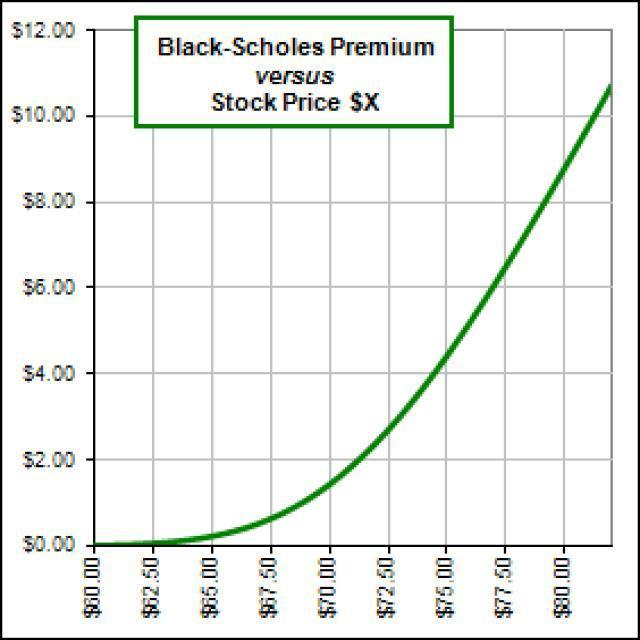axis: (79, 18, 103, 555), (80, 537, 616, 555)
line: (93, 79, 616, 550)
